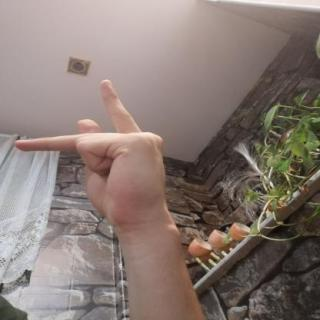DHAA: (8, 72, 178, 236)
